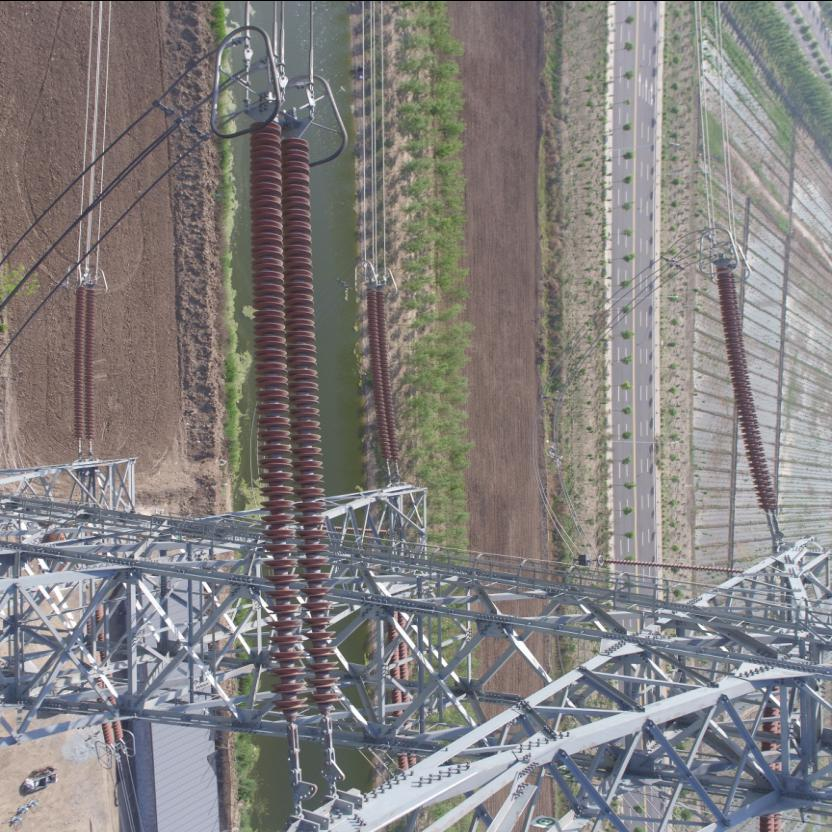insulator: (248, 112, 344, 750), (712, 261, 782, 521), (368, 282, 404, 471), (74, 283, 99, 449)
